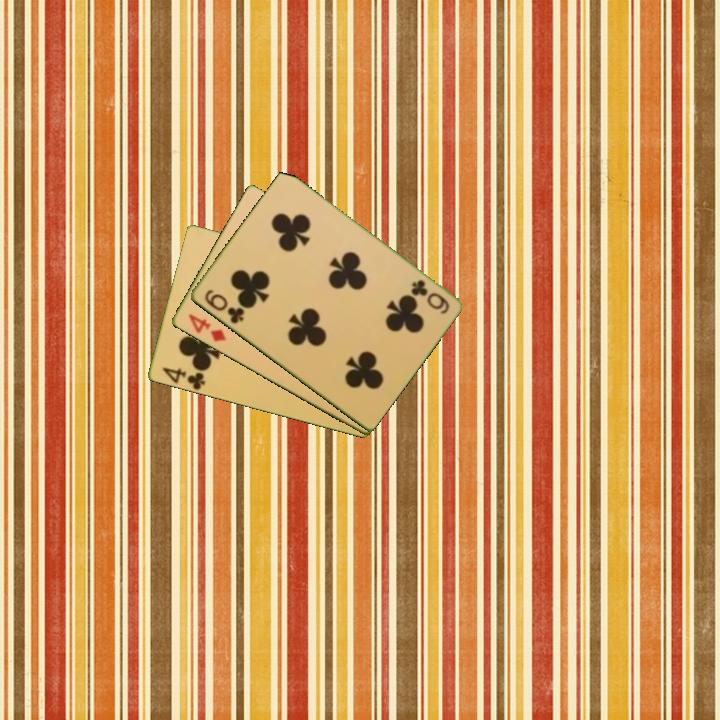4c: (158, 364, 208, 392)
4d: (184, 310, 229, 345)
6c: (200, 286, 247, 327), (407, 276, 452, 317)
